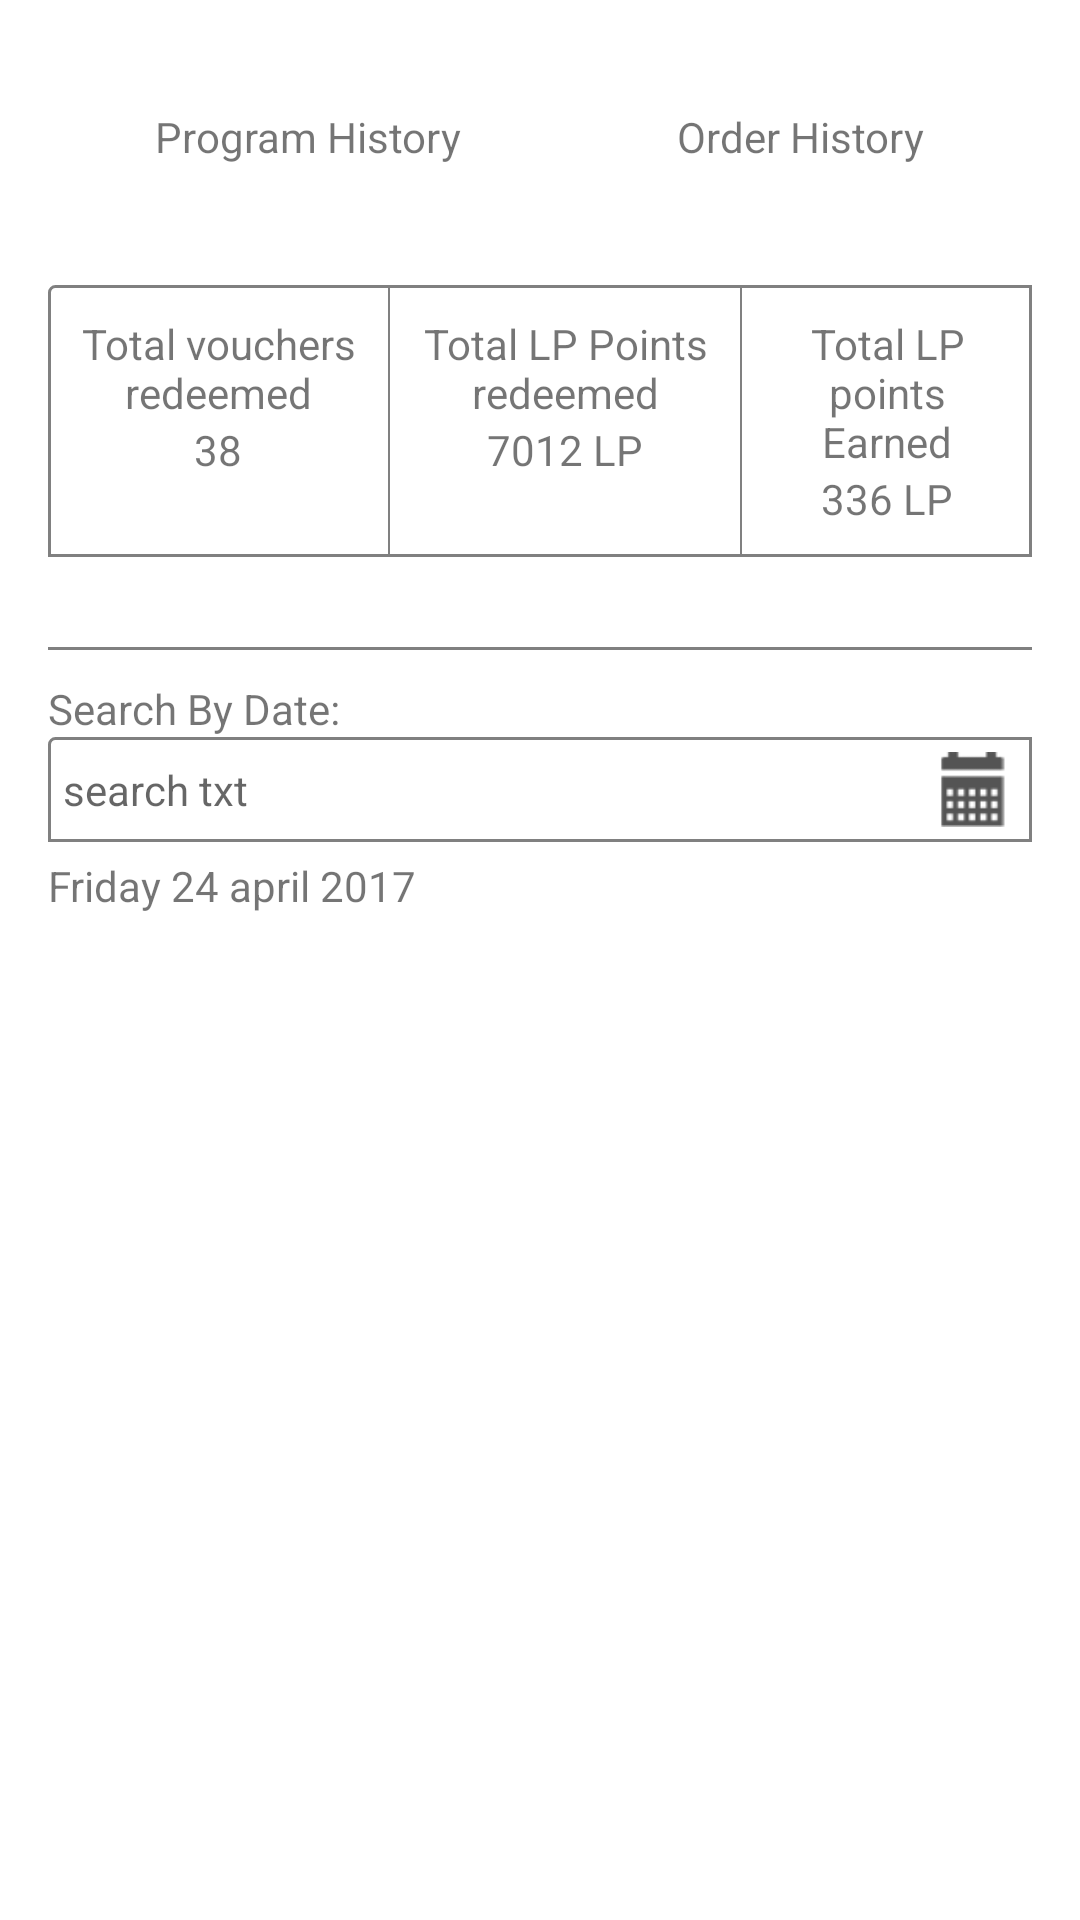

Icons on this 1080×1920 Android screen, each with the point to tap as point (x, y):
calender: point (973, 789)
